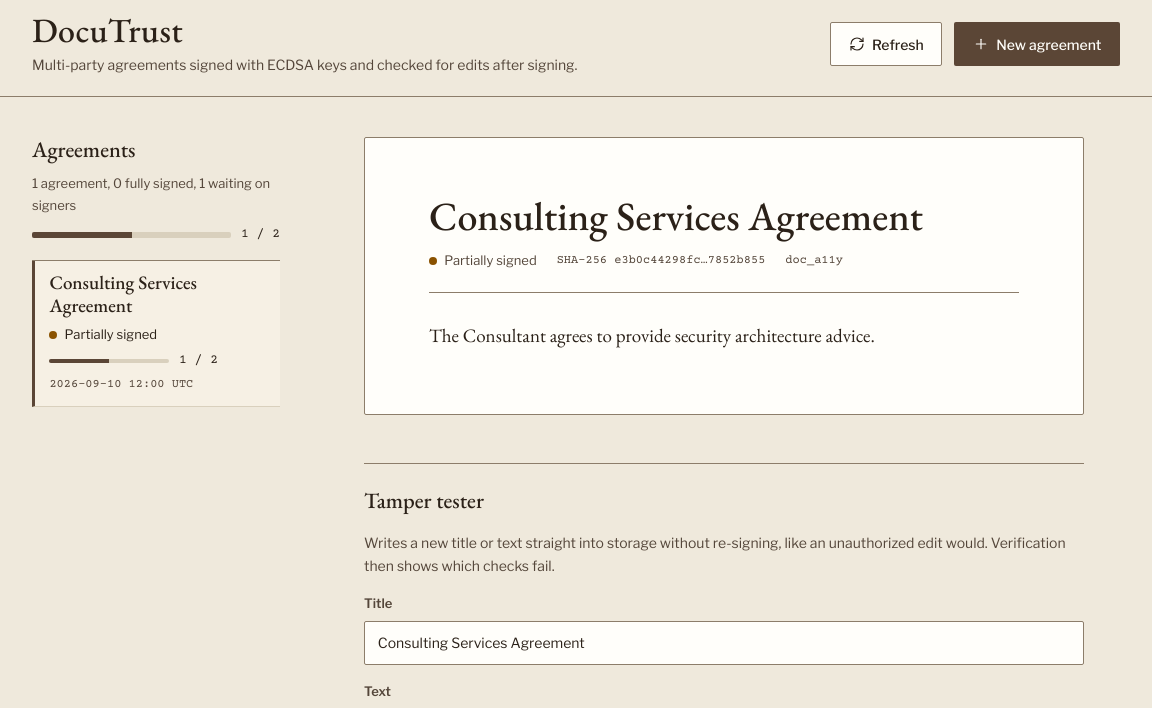
Test case: accessibility checks › keeps every scrollable container keyboard reachable and named
Expected: the text named "Agreement text" is shown, [429,323,875,348]
Click the button "New agreement". click: (1037, 44)
box: [954,22,1120,66]
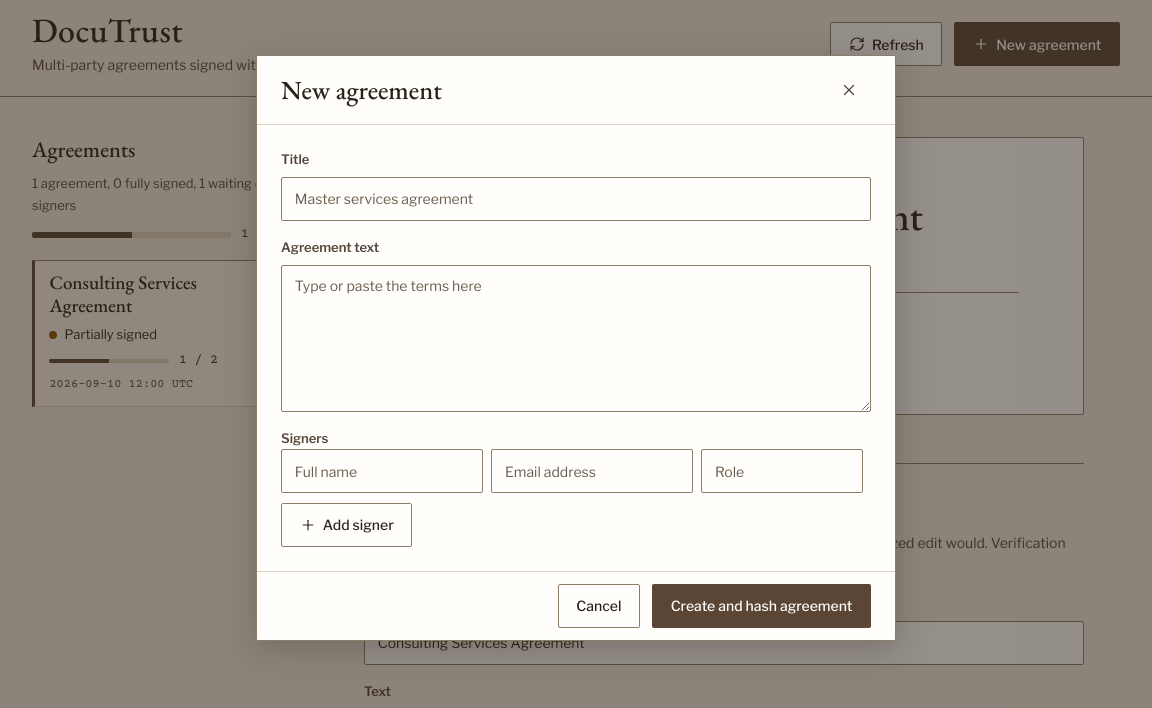
Now the element showing "Title Agreement text Signers Add signer" is shown, box [257,125,895,571]
Click the button named "Close". click: (849, 90)
box: [827,68,871,112]
(page scrolled)
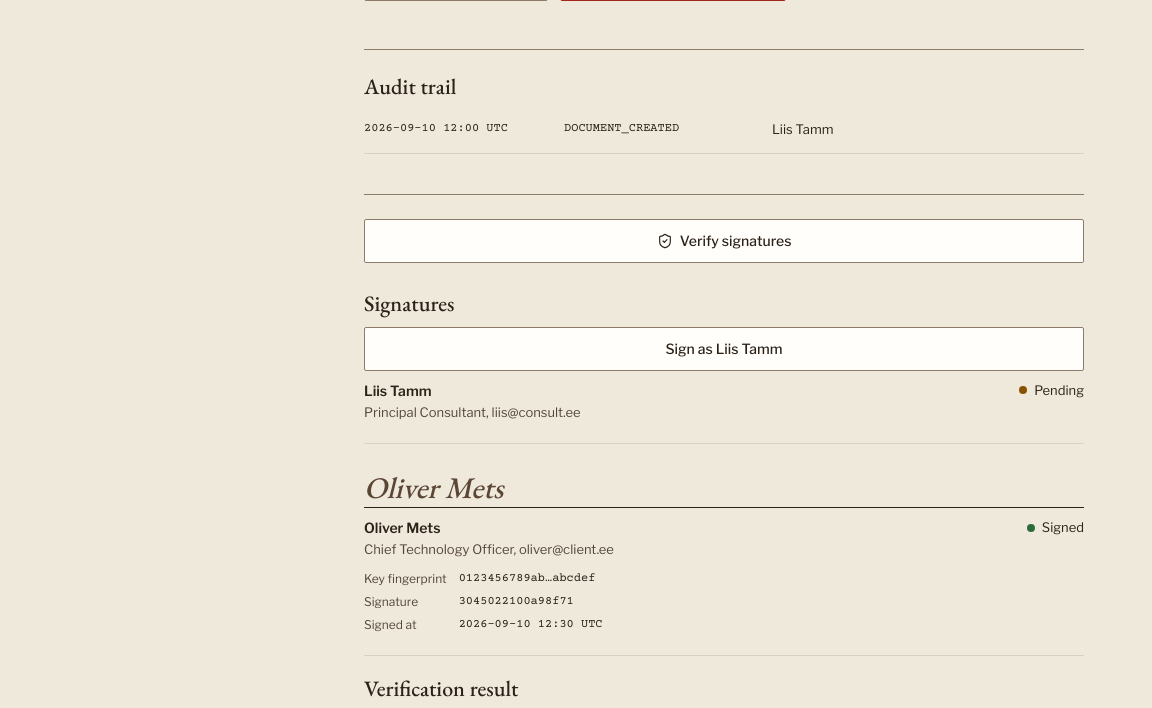
Click the button "Sign as Liis Tamm". click: (724, 349)
box: [364,327,1084,371]
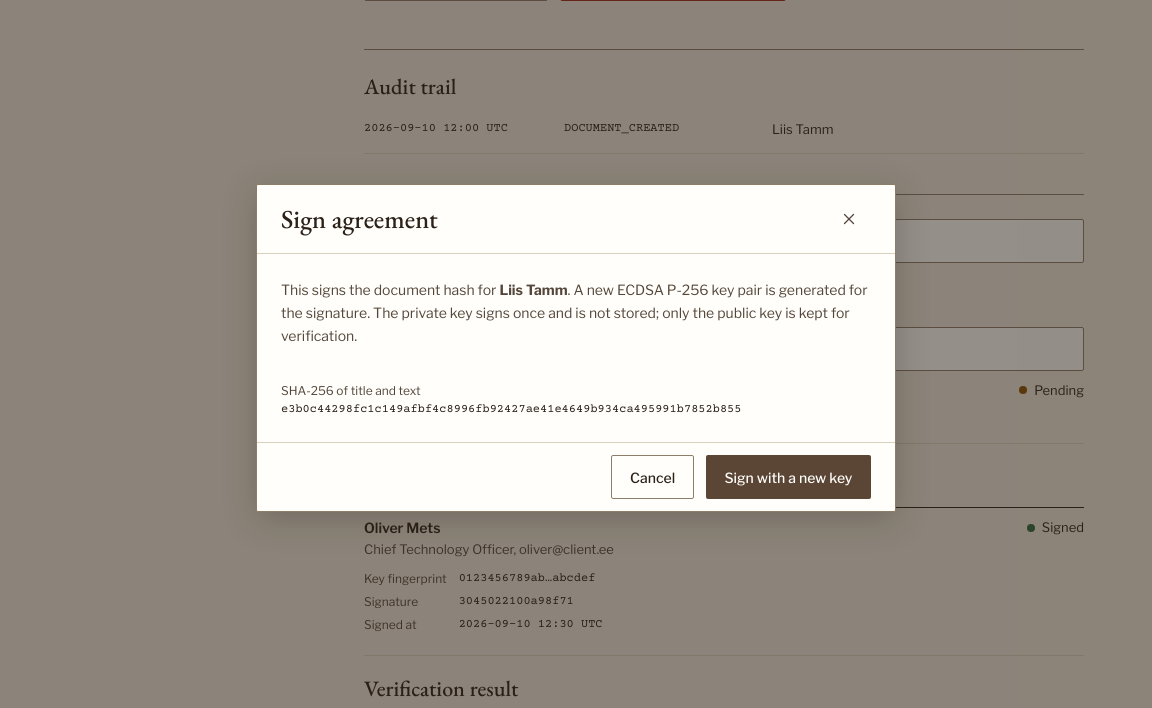
Now the element named "Signing details" is shown, box [257,254,895,442]
